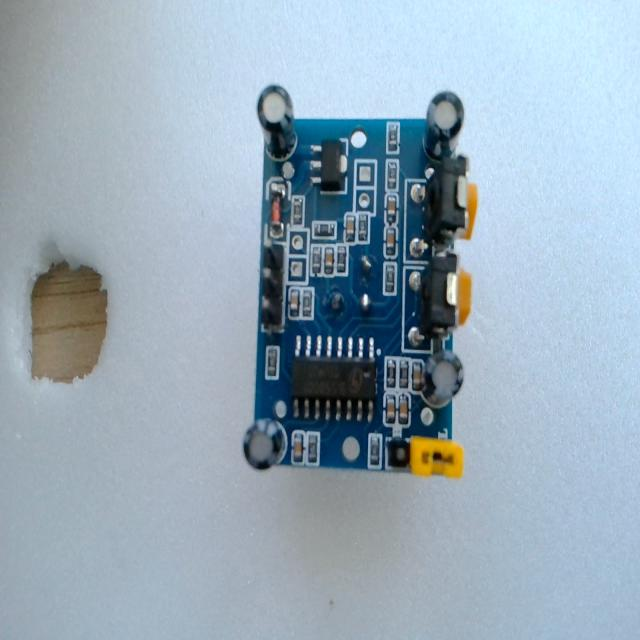Electrolytic capacitor: (257, 87, 298, 161), (424, 90, 465, 160), (420, 348, 466, 408), (241, 417, 287, 473)
IC: (290, 339, 376, 422)
